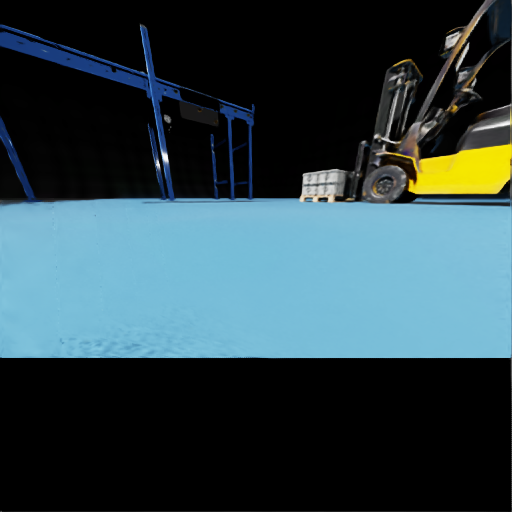transportation_area: (316, 183, 350, 194), (164, 89, 165, 90), (148, 83, 149, 84), (67, 58, 68, 59)
